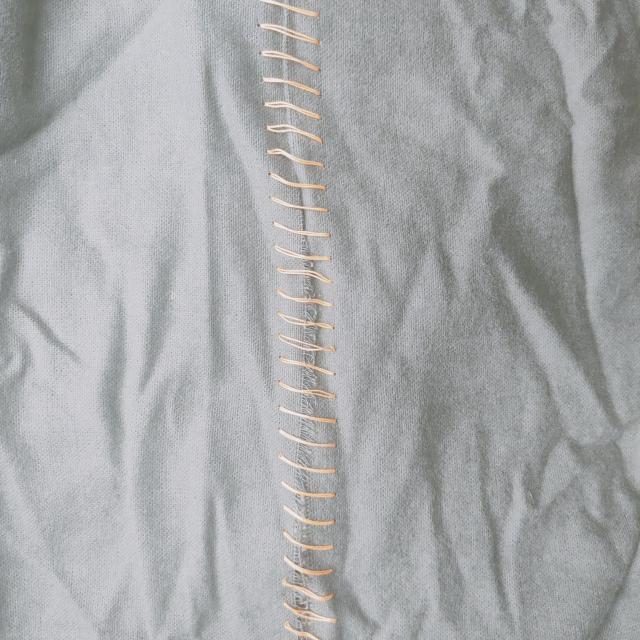Thread_out: (226, 6, 389, 640)
